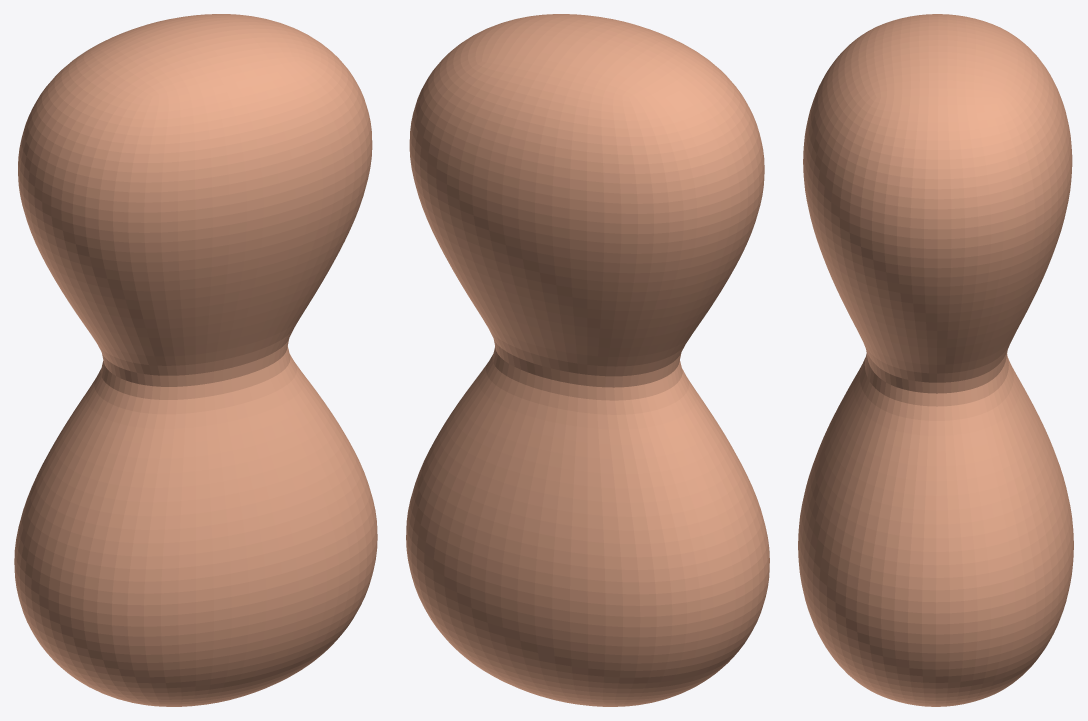
The model's file is brazoDer.obj.
The picture shows the model from 3 angles, left to right: view 1: azimuth 30°, elevation 25°; view 2: azimuth 150°, elevation 25°; view 3: azimuth 270°, elevation 25°; orthographic projection. The views are drawn at different scales.
Parts seen in each view (by area): view 1: brazoDerElRey_Mesh; view 2: brazoDerElRey_Mesh; view 3: brazoDerElRey_Mesh.
Boxes of the visible parts, x1,y1,x2,y2 form: brazoDerElRey_Mesh: (14,14,377,706); brazoDerElRey_Mesh: (406,14,769,706); brazoDerElRey_Mesh: (798,14,1073,706).
Size of the model in its own units: 0.9541 by 1.82 by 0.7067.
Materials: 1 (1 with a texture image).
